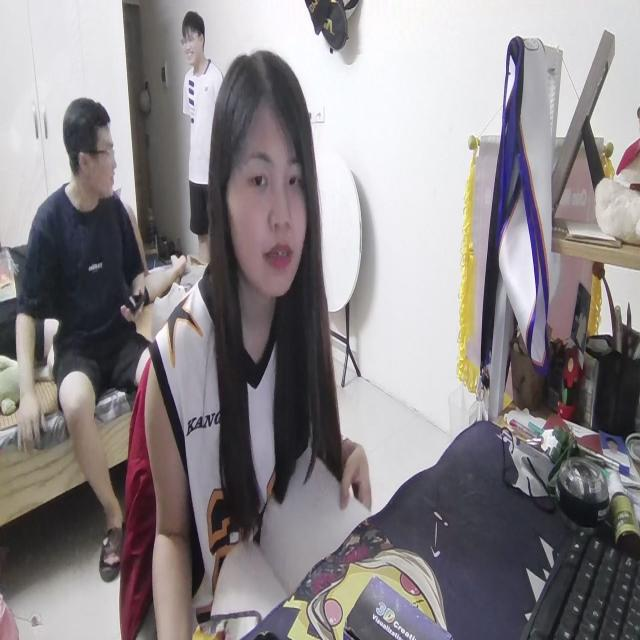book: (210, 433, 370, 640)
extra_person: (12, 95, 160, 578), (176, 8, 226, 245)
student: (144, 46, 374, 640)
